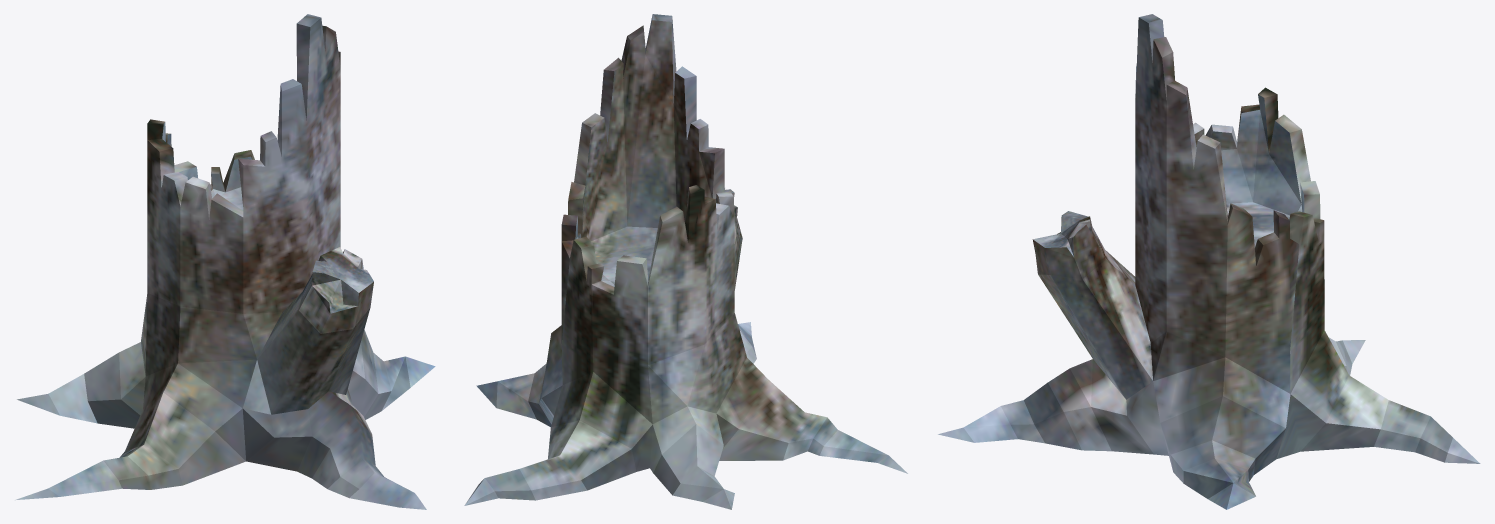
Rendered from Ice_tree02.FBX.
3 renders of one model, left to right at view 1: azimuth 30°, elevation 25°; view 2: azimuth 150°, elevation 25°; view 3: azimuth 270°, elevation 25°, orthographic. The views are drawn at different scales.
Parts seen in each view (by area): view 1: Object15618; view 2: Object15618; view 3: Object15618.
Boxes of the visible parts, x1,y1,x2,y2 form: Object15618: (15, 14, 435, 509); Object15618: (464, 14, 907, 509); Object15618: (938, 14, 1480, 509).
Bounding box in the file's own units: 1235 × 1132 × 1309.
